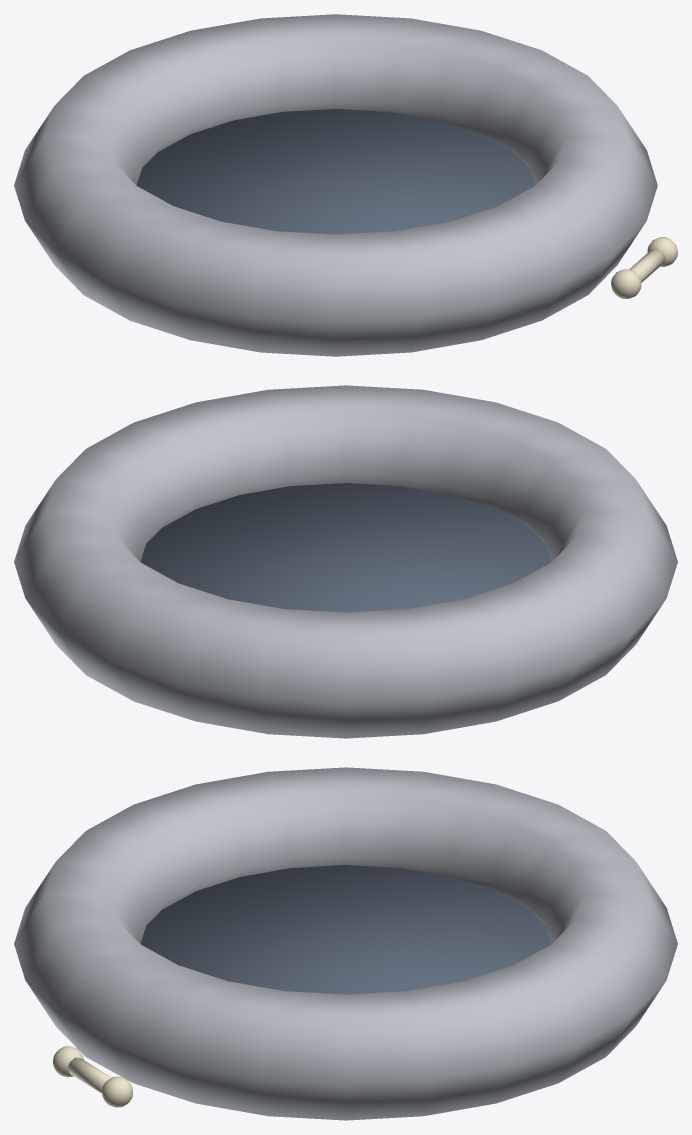
File: Furn_DogBed.gltf
3 views of the same model, one above another, from view 1: azimuth 30°, elevation 25°; view 2: azimuth 150°, elevation 25°; view 3: azimuth 270°, elevation 25° (orthographic). The views are drawn at different scales.
Parts seen in each view (by area): view 1: Furn_DogBed; view 2: Furn_DogBed; view 3: Furn_DogBed.
Part boxes in pixels (bbox=[...]): Furn_DogBed: bbox=[14, 14, 677, 356]; Furn_DogBed: bbox=[14, 385, 677, 738]; Furn_DogBed: bbox=[14, 767, 677, 1120].
Bounding box in the file's own units: 0.84 × 0.1443 × 0.84.
